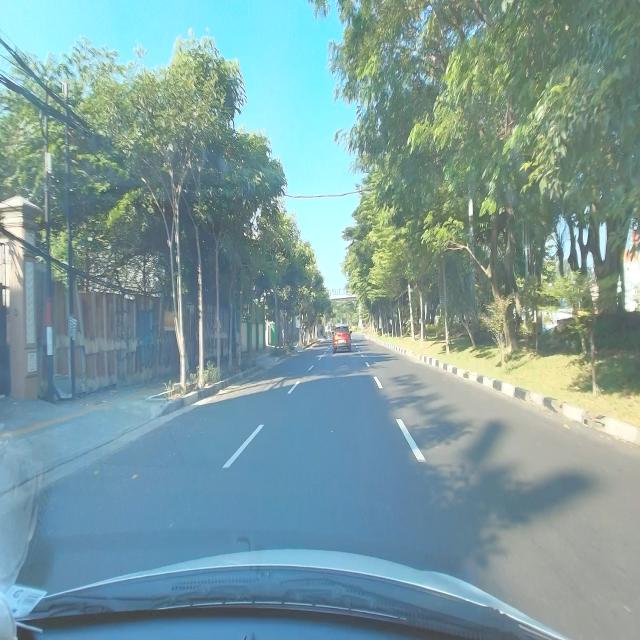car: (331, 324, 353, 354)
